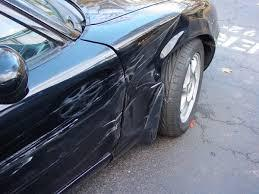doorouter-dent: (17, 75, 115, 180)
fender-dent: (127, 15, 172, 137)
